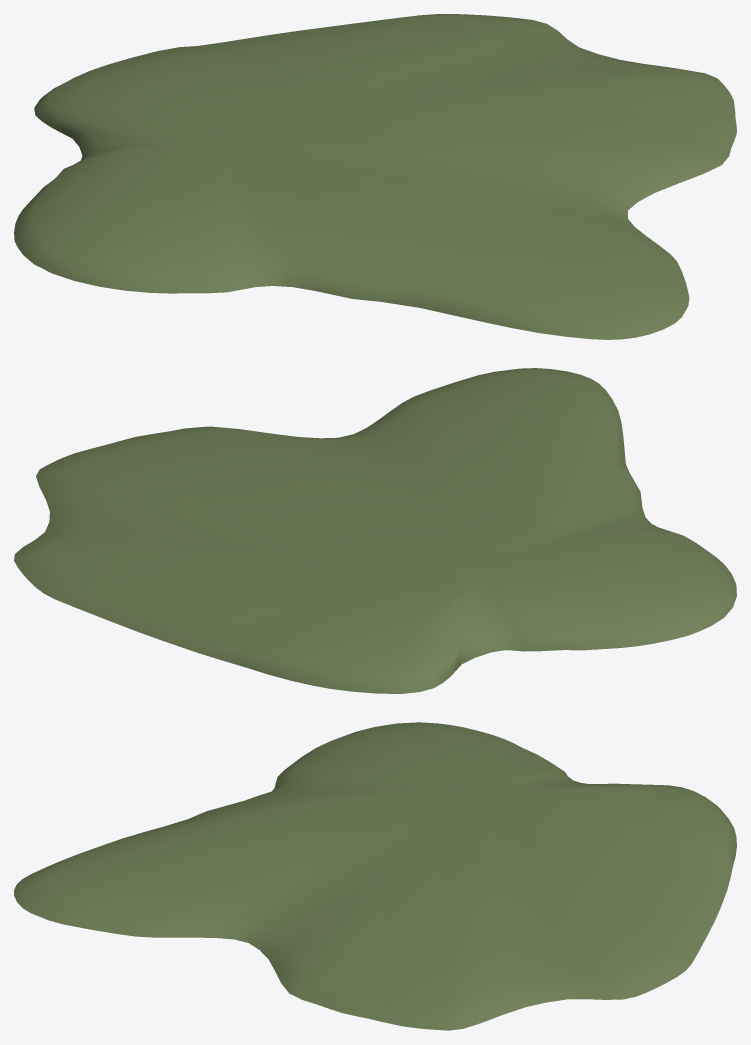
File: Slime5fbx.fbx
3 renders of one model, top to bottom at view 1: azimuth 30°, elevation 25°; view 2: azimuth 150°, elevation 25°; view 3: azimuth 270°, elevation 25°, orthographic. The views are drawn at different scales.
Visible parts, largest first — view 1: slime5; view 2: slime5; view 3: slime5.
Part boxes in pixels (box(x1,y1,x2,y2)): slime5: box(14, 14, 736, 339); slime5: box(14, 368, 736, 693); slime5: box(14, 722, 736, 1030).
Size of the model in its own units: 2.02 by 0.0792 by 2.03.
